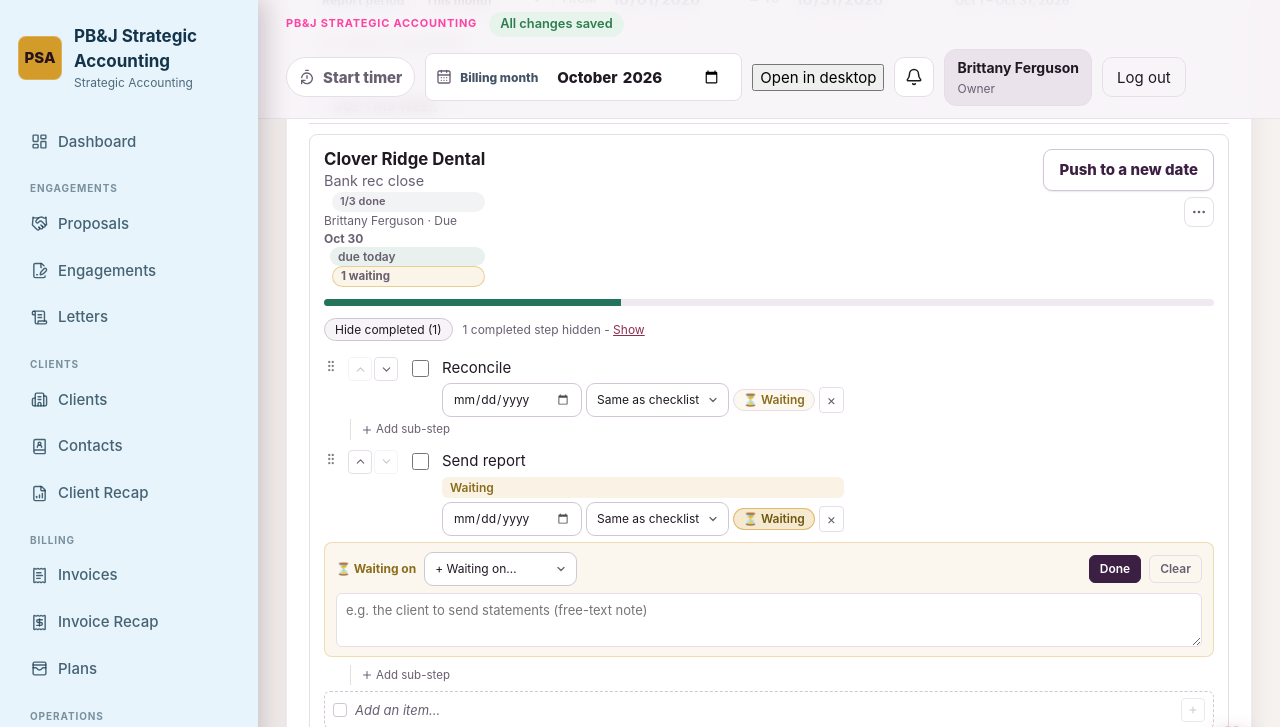
Scenario: after a "this + all future" step delete, the next autosave carries the server template › a 404 from the server shows its sentence in the prompt and never trips the sync alarm
(page scrolled)
Check: the text "Bank rec close" is shown, box top-left (324, 172), bottom-right (424, 189)
What coordinates should you click on to do the following:
click the button named "Delete item"
I would click on:
 (831, 400)
Its box is top-left (819, 387), bottom-right (844, 413).
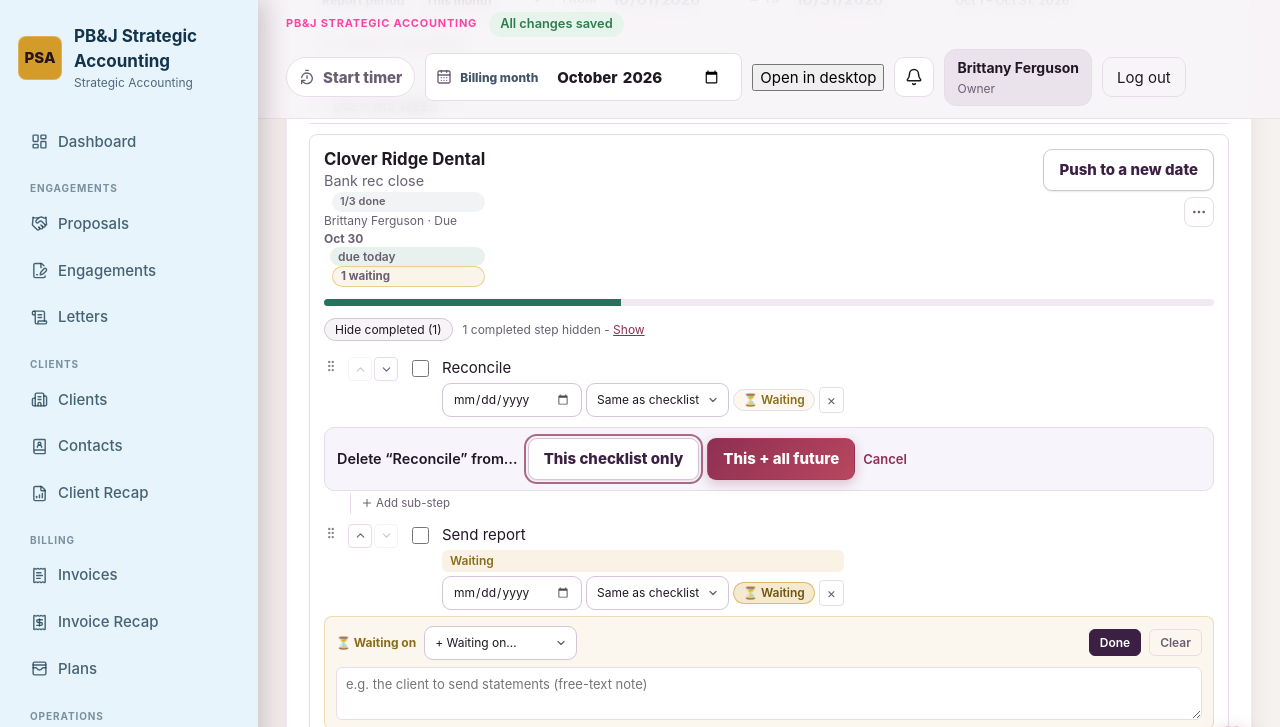
What coordinates should you click on to do the following:
click the button "This + all future"
I would click on:
 (781, 459)
Its box is top-left (707, 438), bottom-right (855, 480).
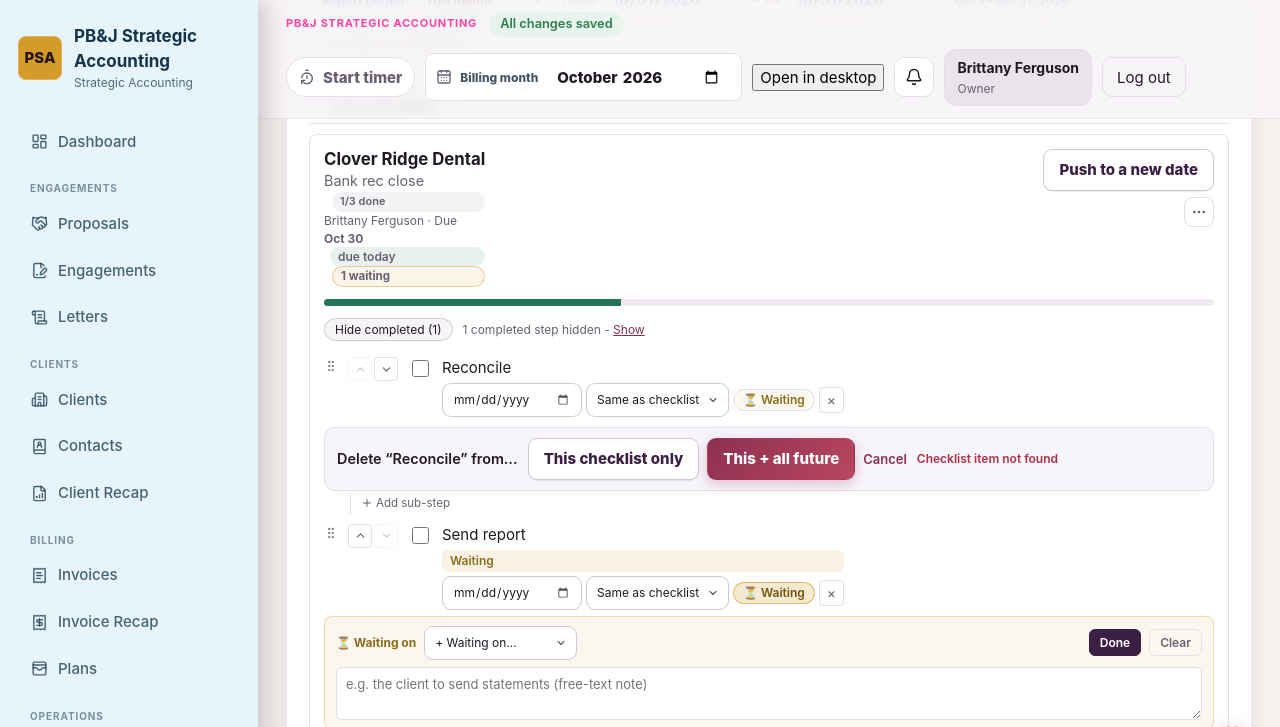
Check: the element named "Where to delete this step" is shown, box top-left (324, 427), bottom-right (1214, 491)
Check: the message reads "Checklist item not found", box top-left (917, 451), bottom-right (1058, 466)
